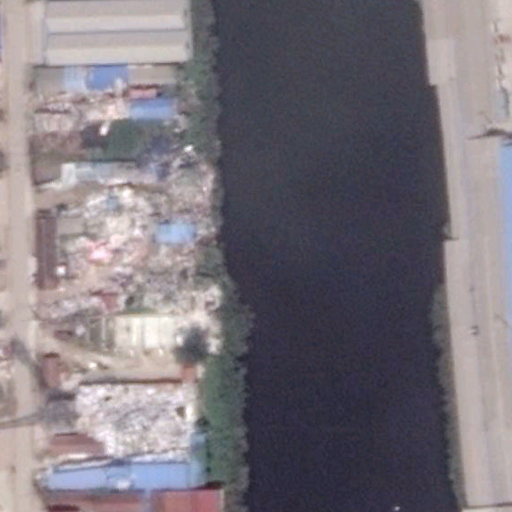msw: (29, 156, 218, 317), (80, 383, 199, 464)
